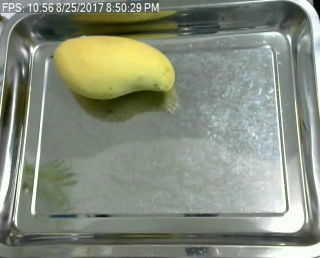Mango: (50, 34, 182, 103)
